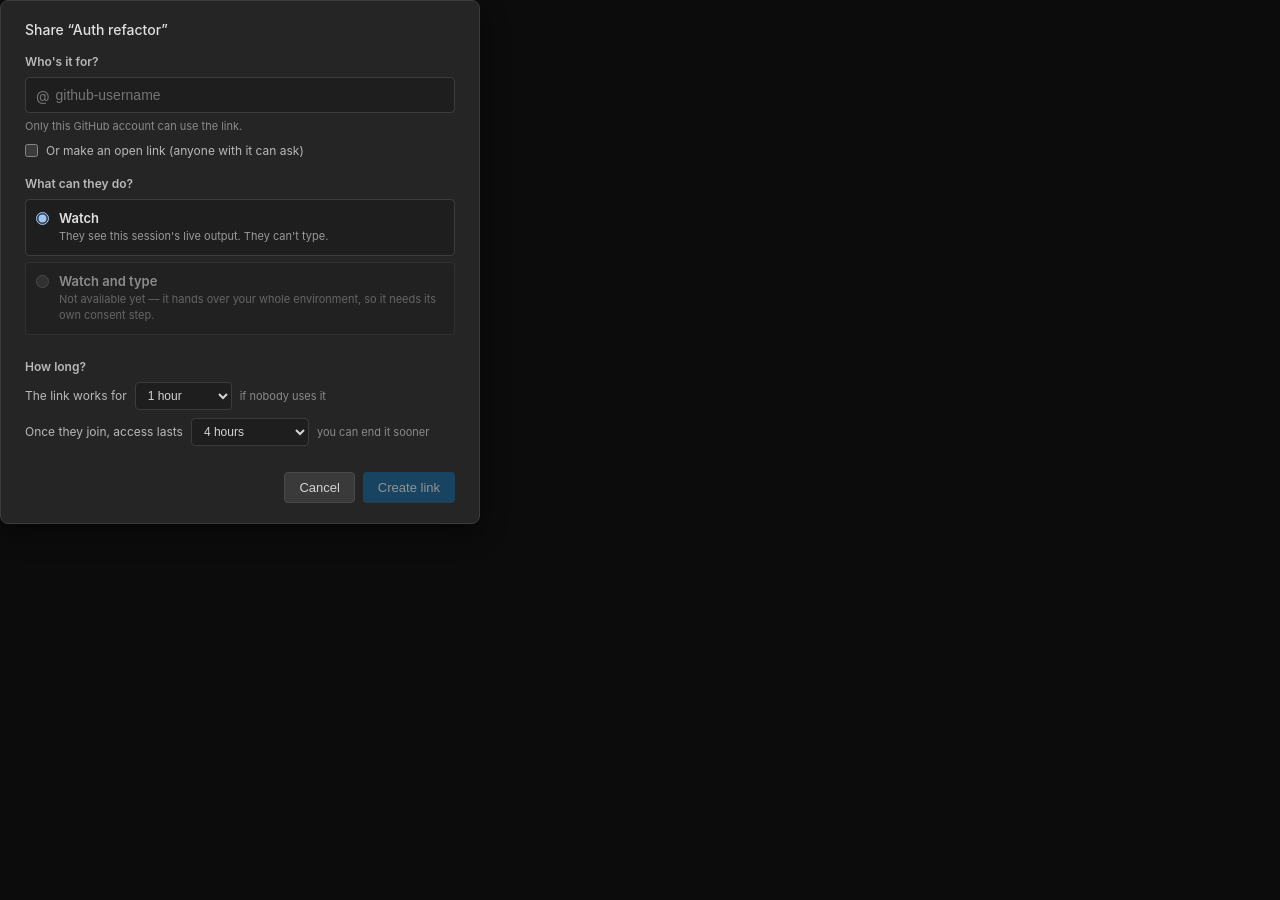
Test: the created state › an open link says anyone can ask, and that approval is still needed
Click the checkbox.
click(32, 150)  # box top-left (25, 144), bottom-right (38, 157)
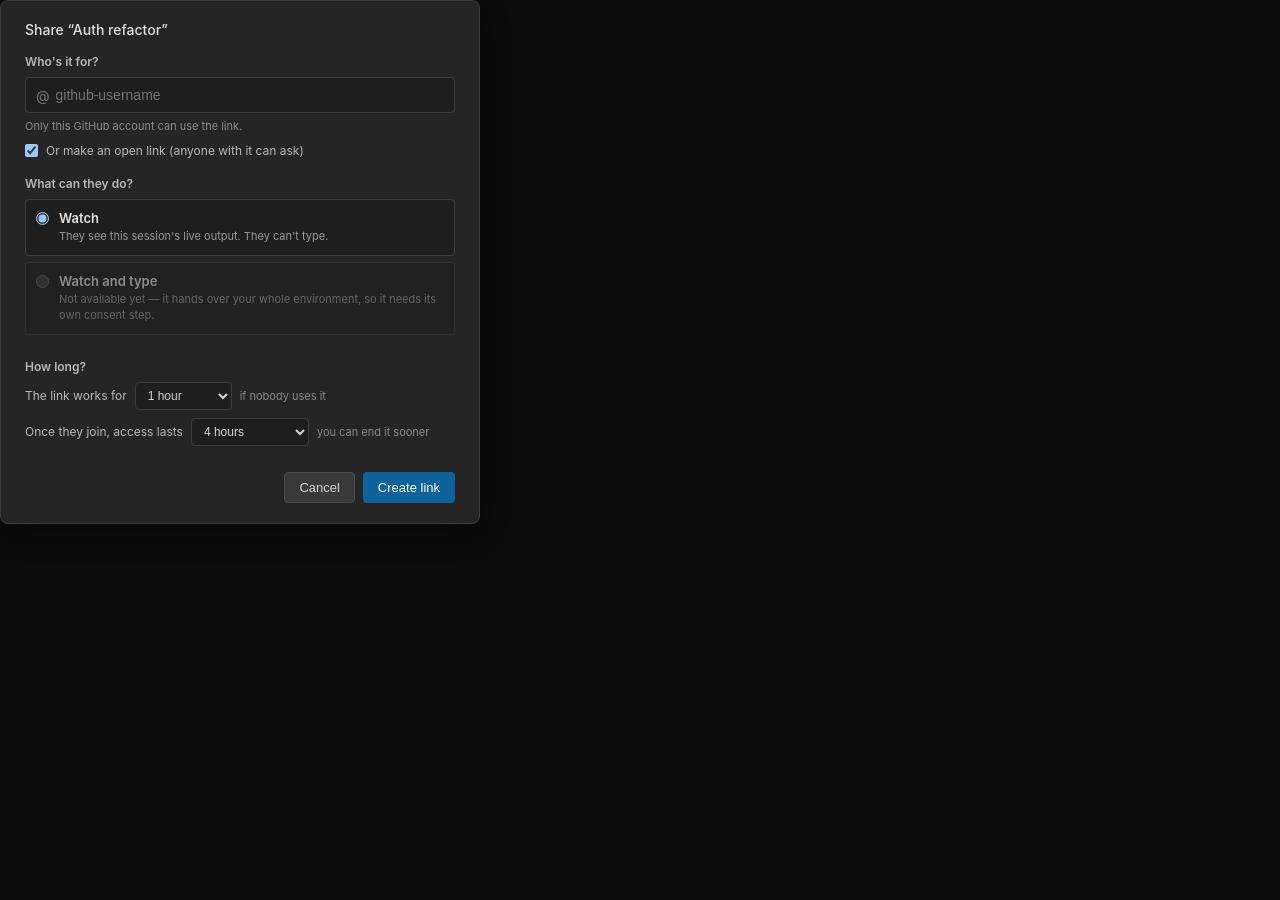
Click the button "Create link".
click(409, 487)  # box top-left (363, 472), bottom-right (455, 503)
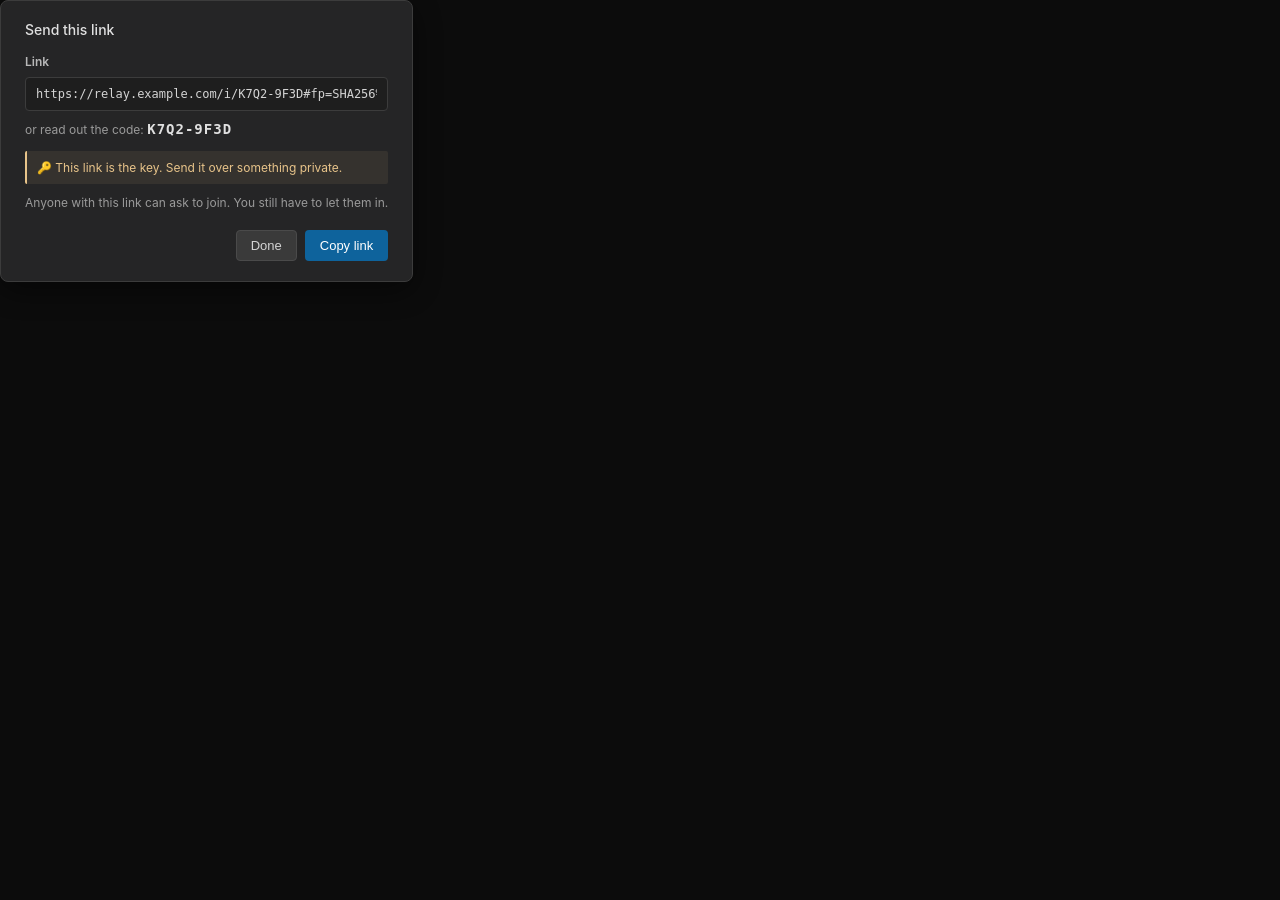
Now the heading "Send this link" is shown, box top-left (25, 21), bottom-right (114, 38)
Now the text "still have to let them in" is shown, box top-left (25, 195), bottom-right (388, 210)
